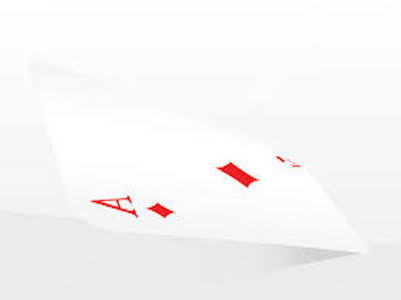AceOfDiamonds: (34, 85, 366, 260)
